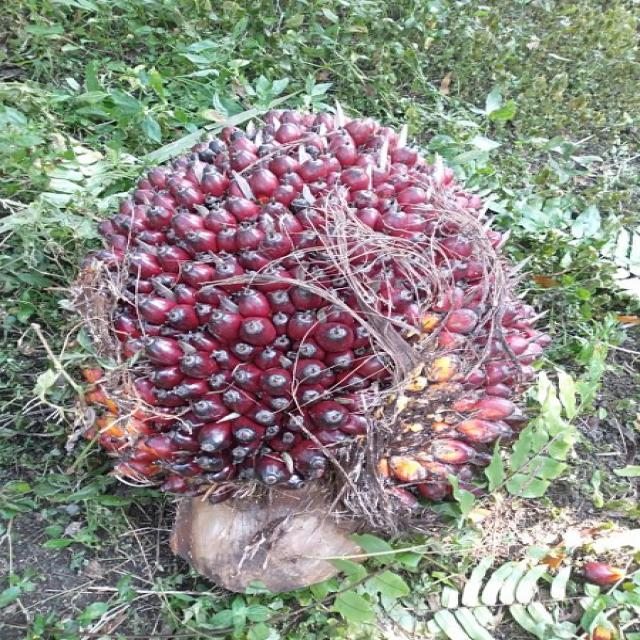fraksi 1: (24, 83, 572, 607)
